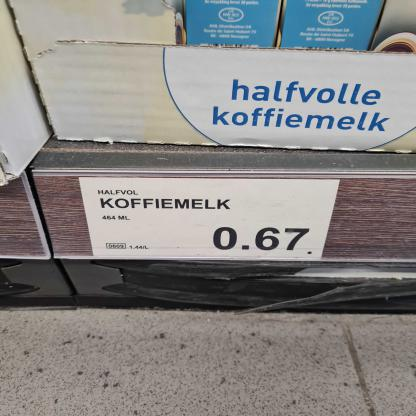prtg: (79, 177, 342, 260)
